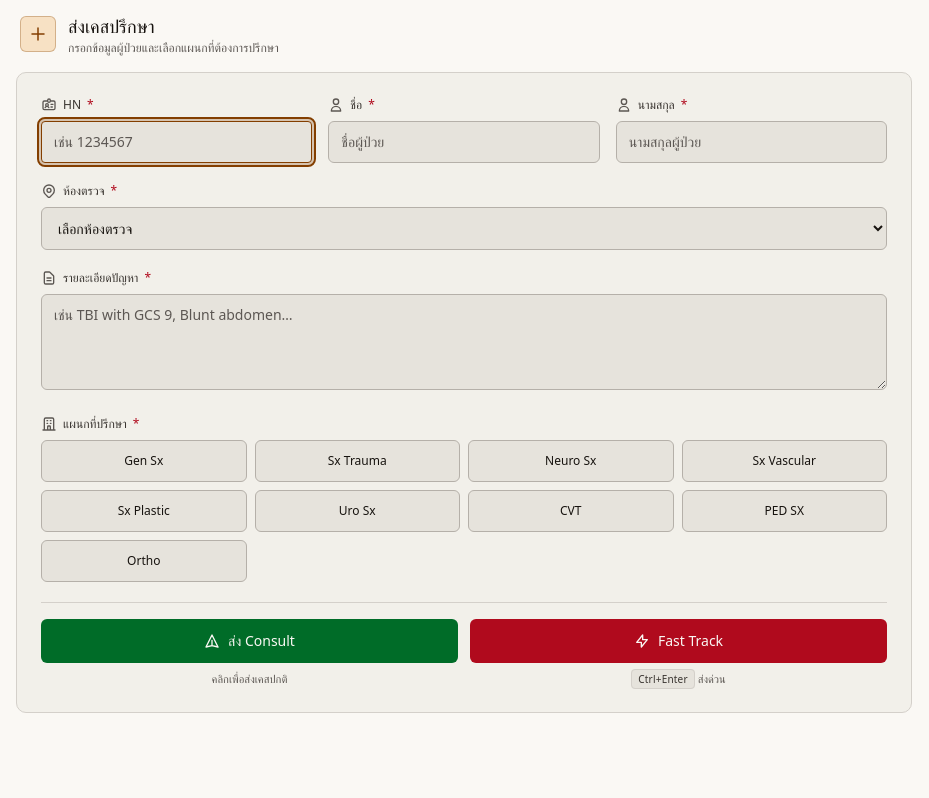
Test: SubmitPage mount and redirect safety › keeps recovery banner and stays on /submit when B fails and A completes in the same batch
The image size is (929, 798).
Type "123456" into the field labelled "HN *" at x=177, y=142, box x1=41 y1=121 x2=312 y2=163
Type "สมชาย" into the field with placeholder "ชื่อผู้ป่วย" at x=464, y=142, box x1=328 y1=121 x2=600 y2=163
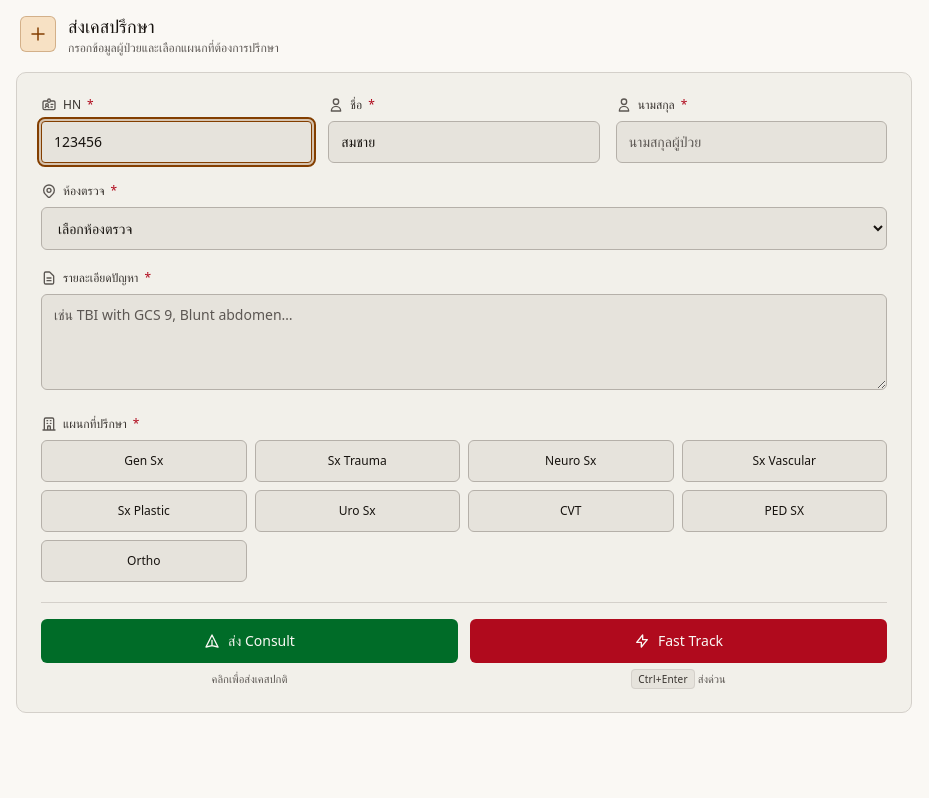
Type "ใจดี" into the field with placeholder "นามสกุลผู้ป่วย" at x=751, y=142, box x1=616 y1=121 x2=887 y2=163
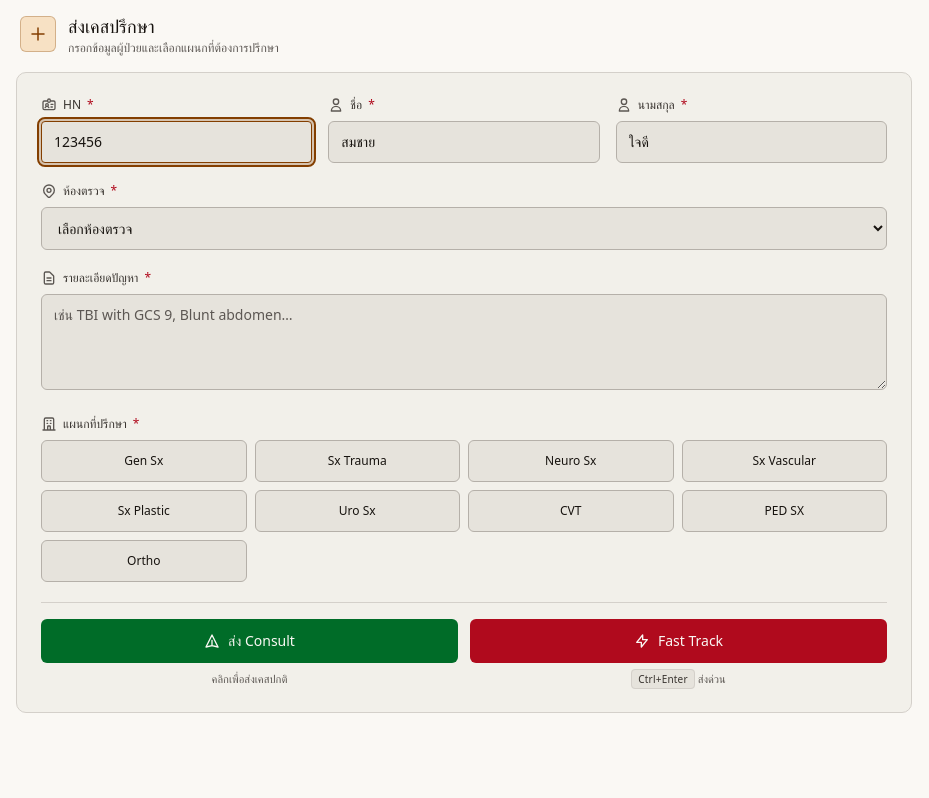
Select "Resus Team 1" in the dropdown labelled "ห้องตรวจ *" at x=464, y=228, box x1=41 y1=207 x2=887 y2=250
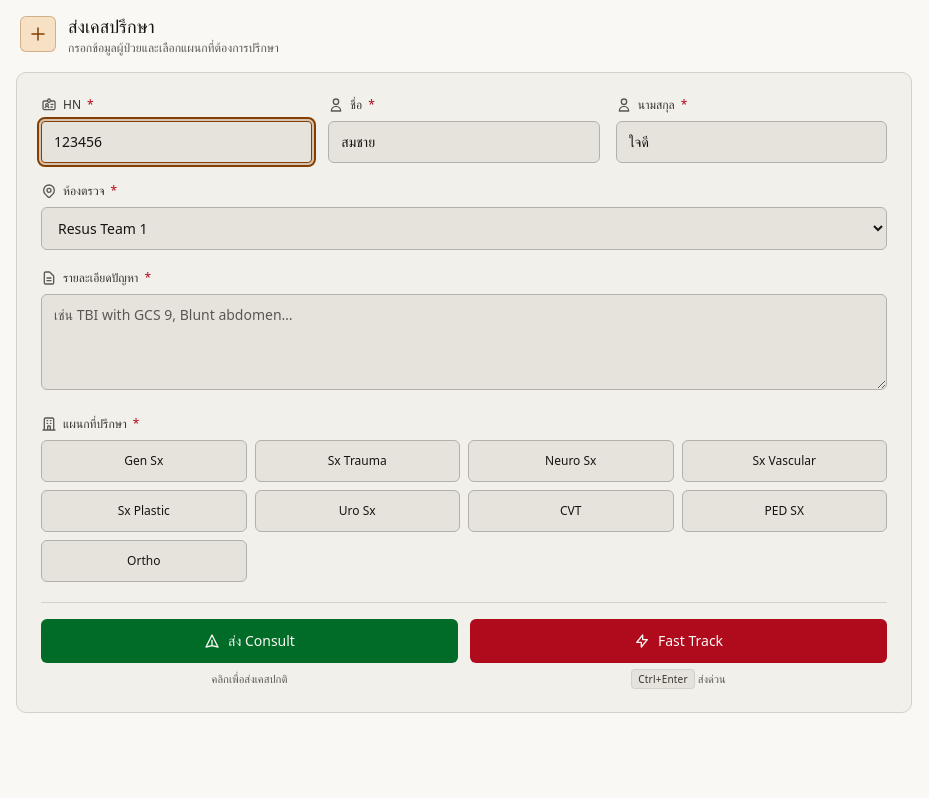
Type "Acute abdomen" into the text box labelled "รายละเอียดปัญหา *" at x=464, y=342, box x1=41 y1=294 x2=887 y2=390
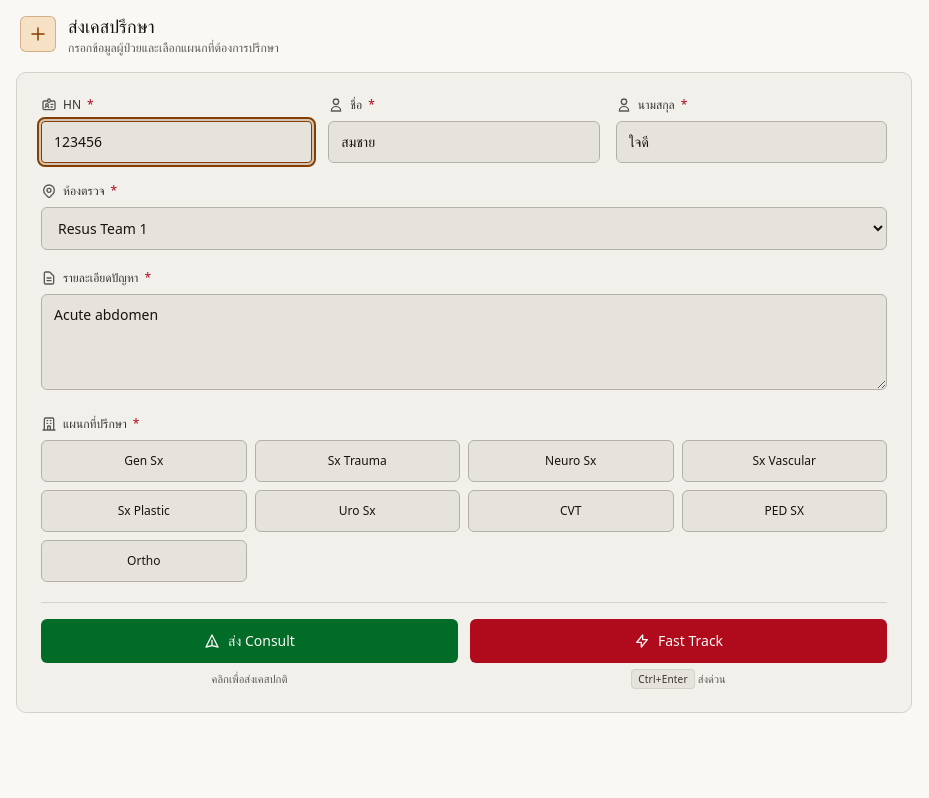
Click the checkbox labelled "Gen Sx" at x=144, y=461, box x1=41 y1=440 x2=246 y2=482
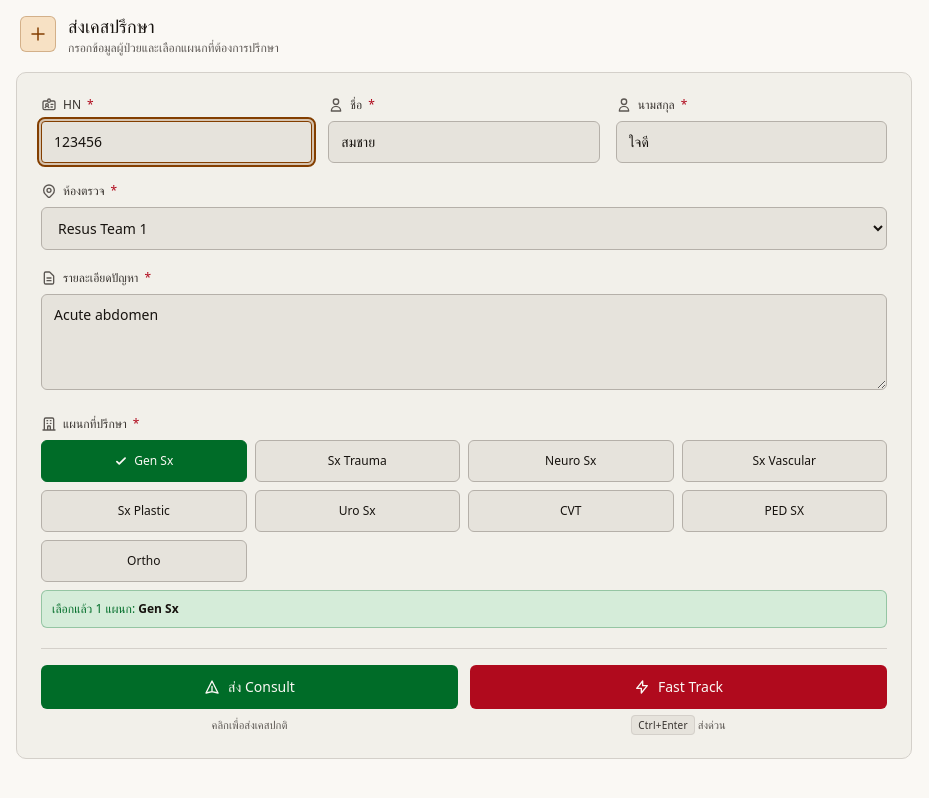
Click the button "ส่ง Consult" at x=250, y=687, box x1=41 y1=665 x2=458 y2=709
Wait 2000 ms
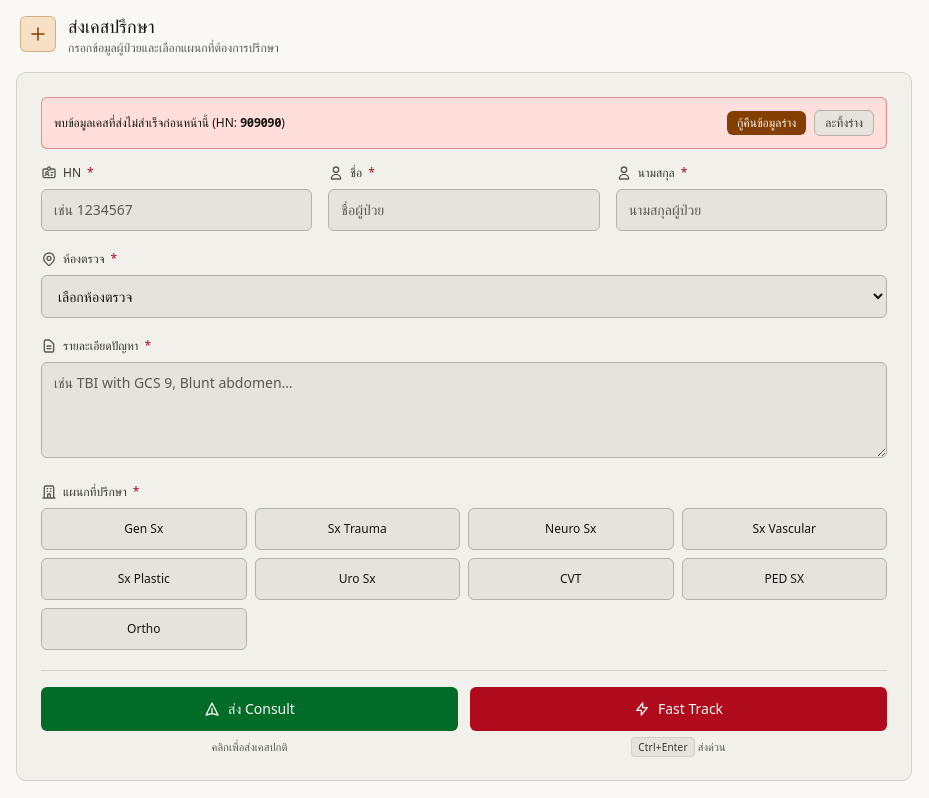
Expected: the element named "กู้คืนข้อมูลร่างเคส" is shown, x1=41 y1=97 x2=887 y2=149
Expected: the text "909090" is shown, x1=240 y1=114 x2=281 y2=131
Expected: the button "กู้คืนข้อมูลร่าง" is shown, x1=727 y1=111 x2=806 y2=135
